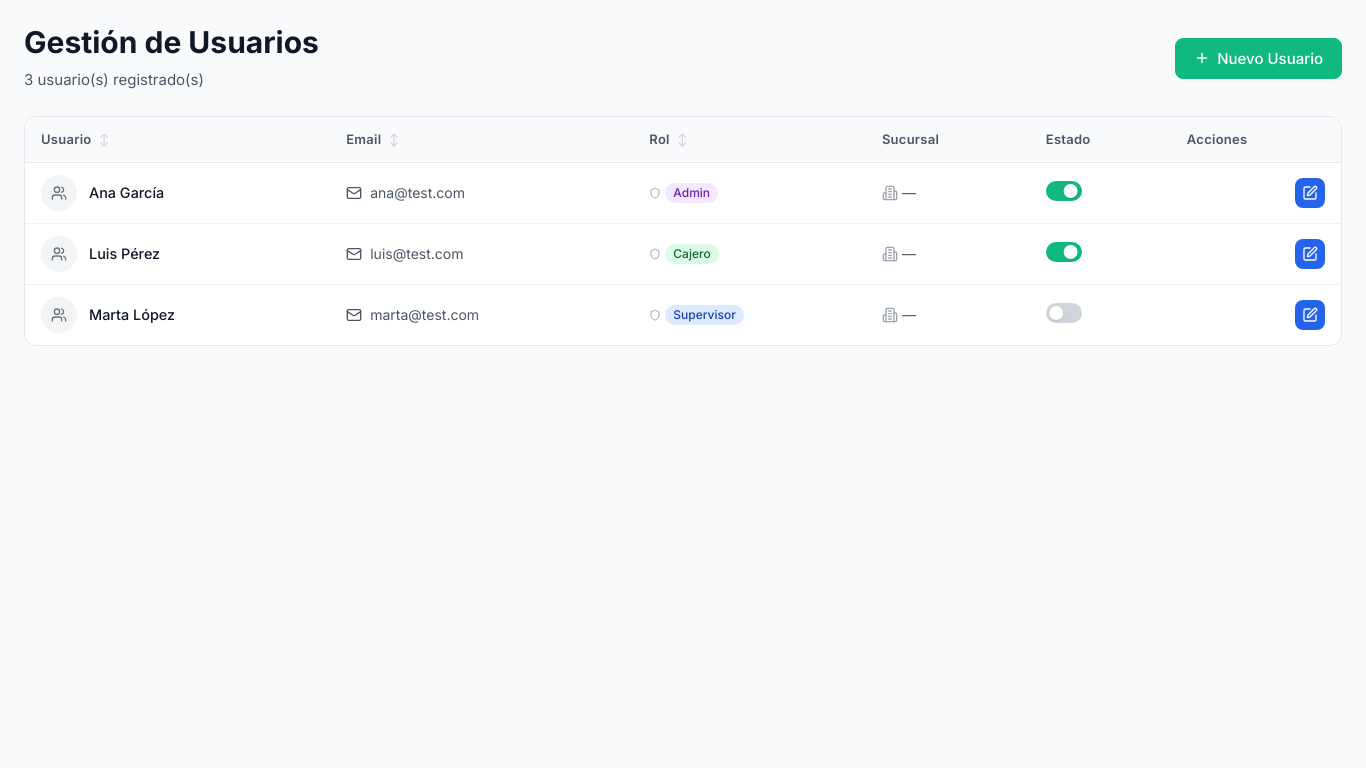
Test: UserManagement – crear usuario › botón "Nuevo Usuario" abre el modal
Check: the heading "Gestión de Usuarios" is shown, box [24,24,319,60]
Click the button "Nuevo Usuario" at (1259, 58), box [1175,38,1342,78]
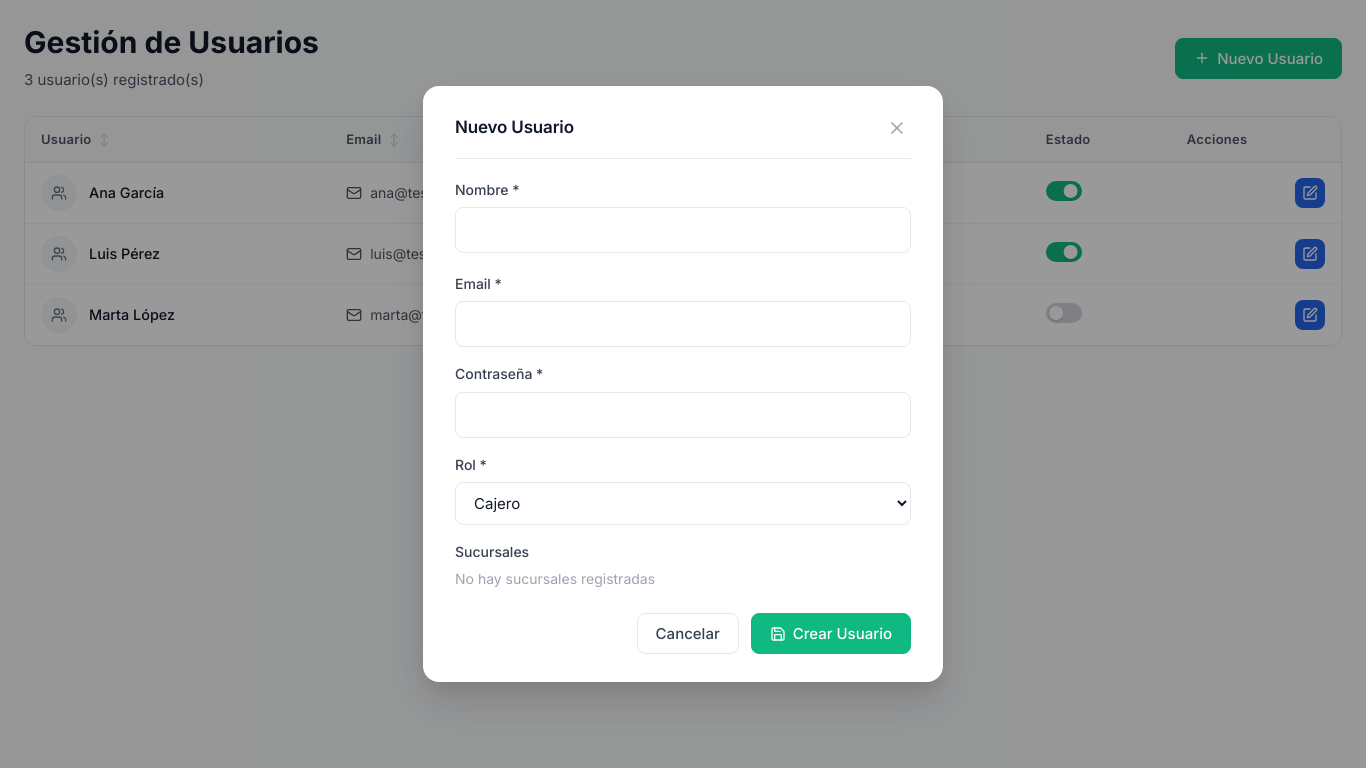
Check: the heading "Nuevo Usuario" is shown, box [455,114,574,141]
